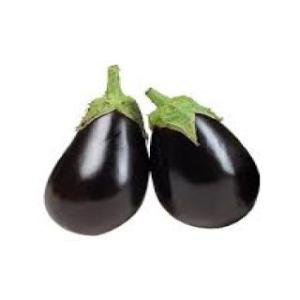eggplant: (47, 65, 145, 235), (145, 90, 259, 228)
